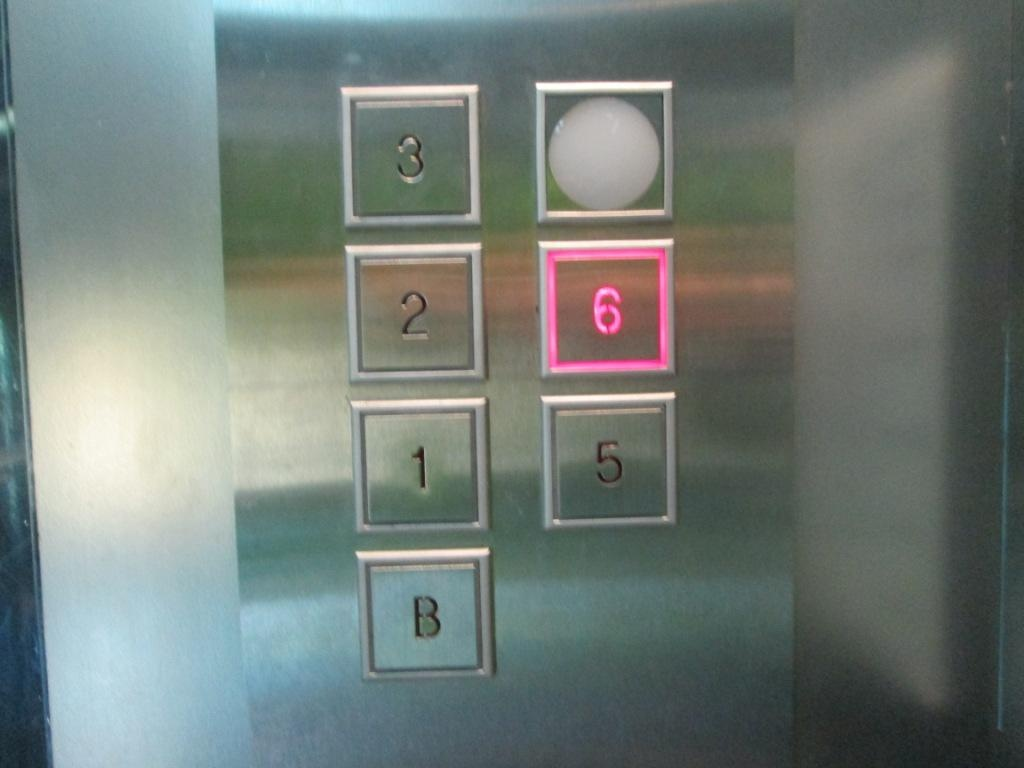1: (349, 397, 495, 535)
2: (340, 238, 491, 383)
3: (337, 82, 482, 229)
5: (538, 393, 682, 532)
6: (538, 238, 678, 383)
B: (354, 546, 497, 682)
empty: (534, 79, 673, 223)
